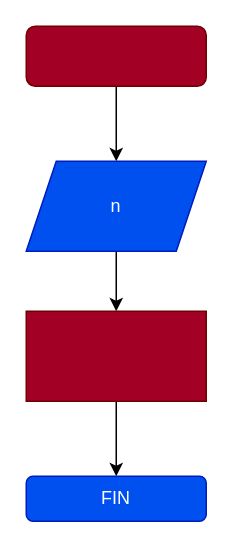
The diagram is 233 pixels wide and 548 high, and some of its shapes have lost their labels. The shapes that lost their labels are listed below. From the top down, each one's centre as x and y in pixels, then its label:
At pixel 115 55: "INICIO".
At pixel 115 355: "S=n(n+1)/2".
